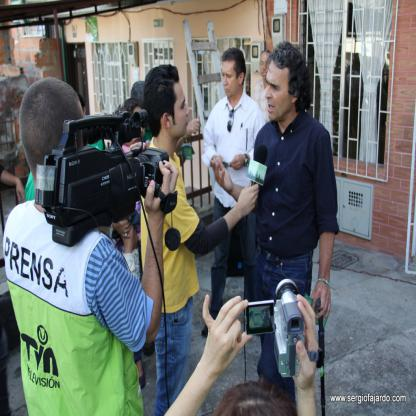Camera: (27, 121, 168, 250), (244, 277, 307, 377)
